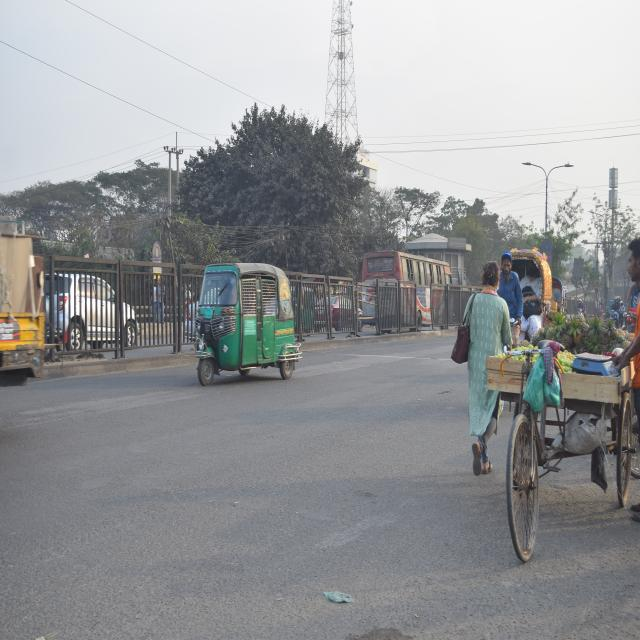bus: (359, 245, 453, 331)
car: (50, 266, 140, 359)
